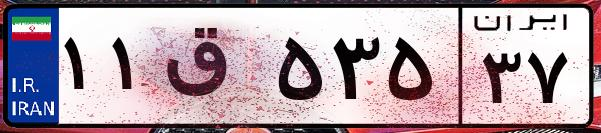1: (57, 26, 110, 100), (110, 28, 158, 98)
3: (330, 28, 385, 110), (475, 38, 525, 113)
5: (270, 28, 330, 110), (385, 28, 445, 110)
7: (525, 38, 570, 115)
ق: (158, 20, 270, 120)
